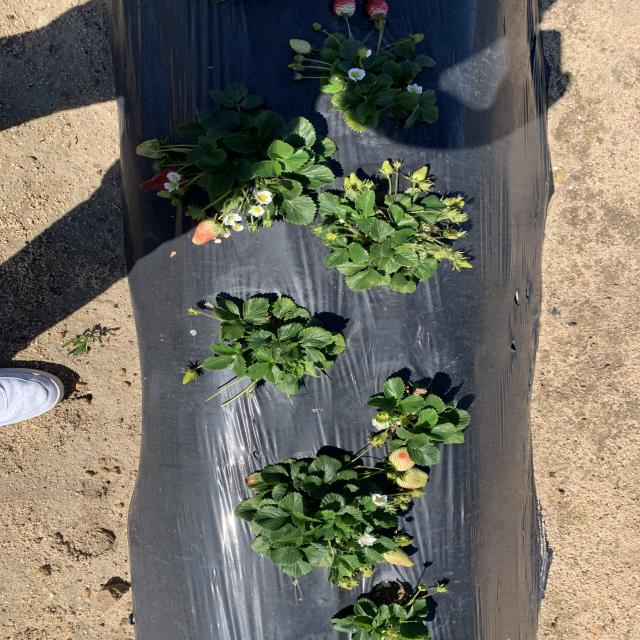unripe: (138, 165, 188, 193), (367, 0, 389, 22), (335, 0, 356, 17)
